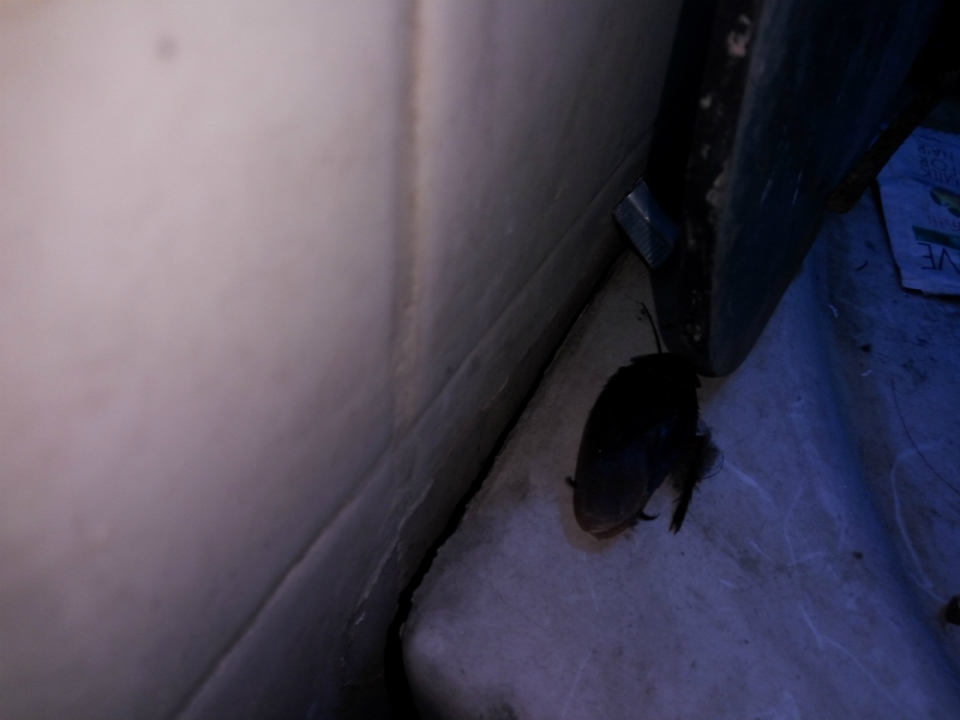cockroach: (456, 321, 754, 553)
